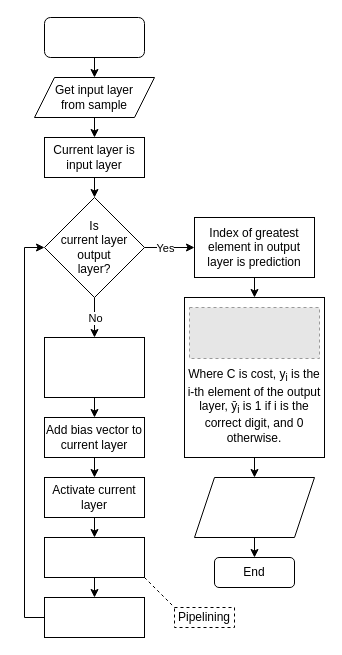
This 342x655 diagram has some shape labels left out. Grey dashed boxes stand in for pictures. Each missing label, with the centre of its shape:
Begin forward propagation: (94,37)
Current layer is now next layer: (94,617)
Multiply weight matrix and current layer: (94,367)
Output prediction and cost: (254,507)
Set the next layer to the result: (94,557)
